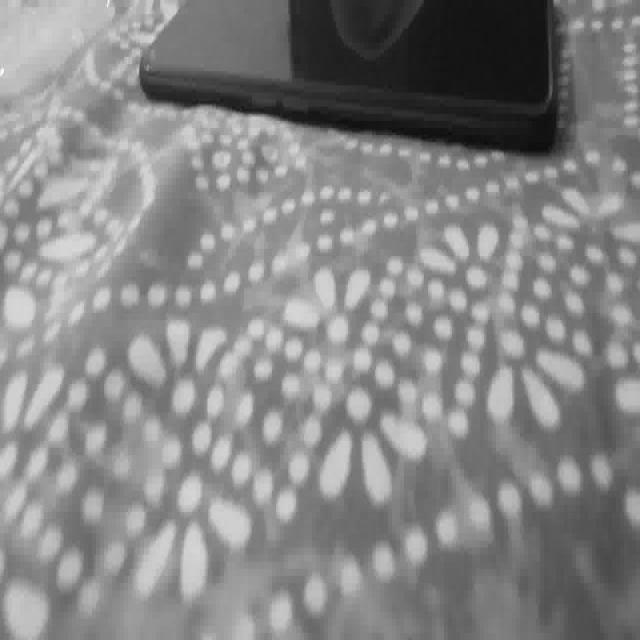fake: (136, 5, 560, 159)
